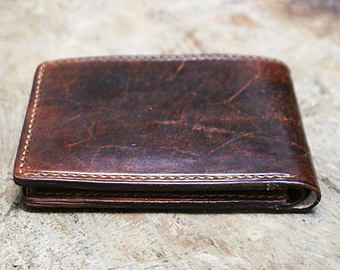monedero: (13, 52, 323, 217)
